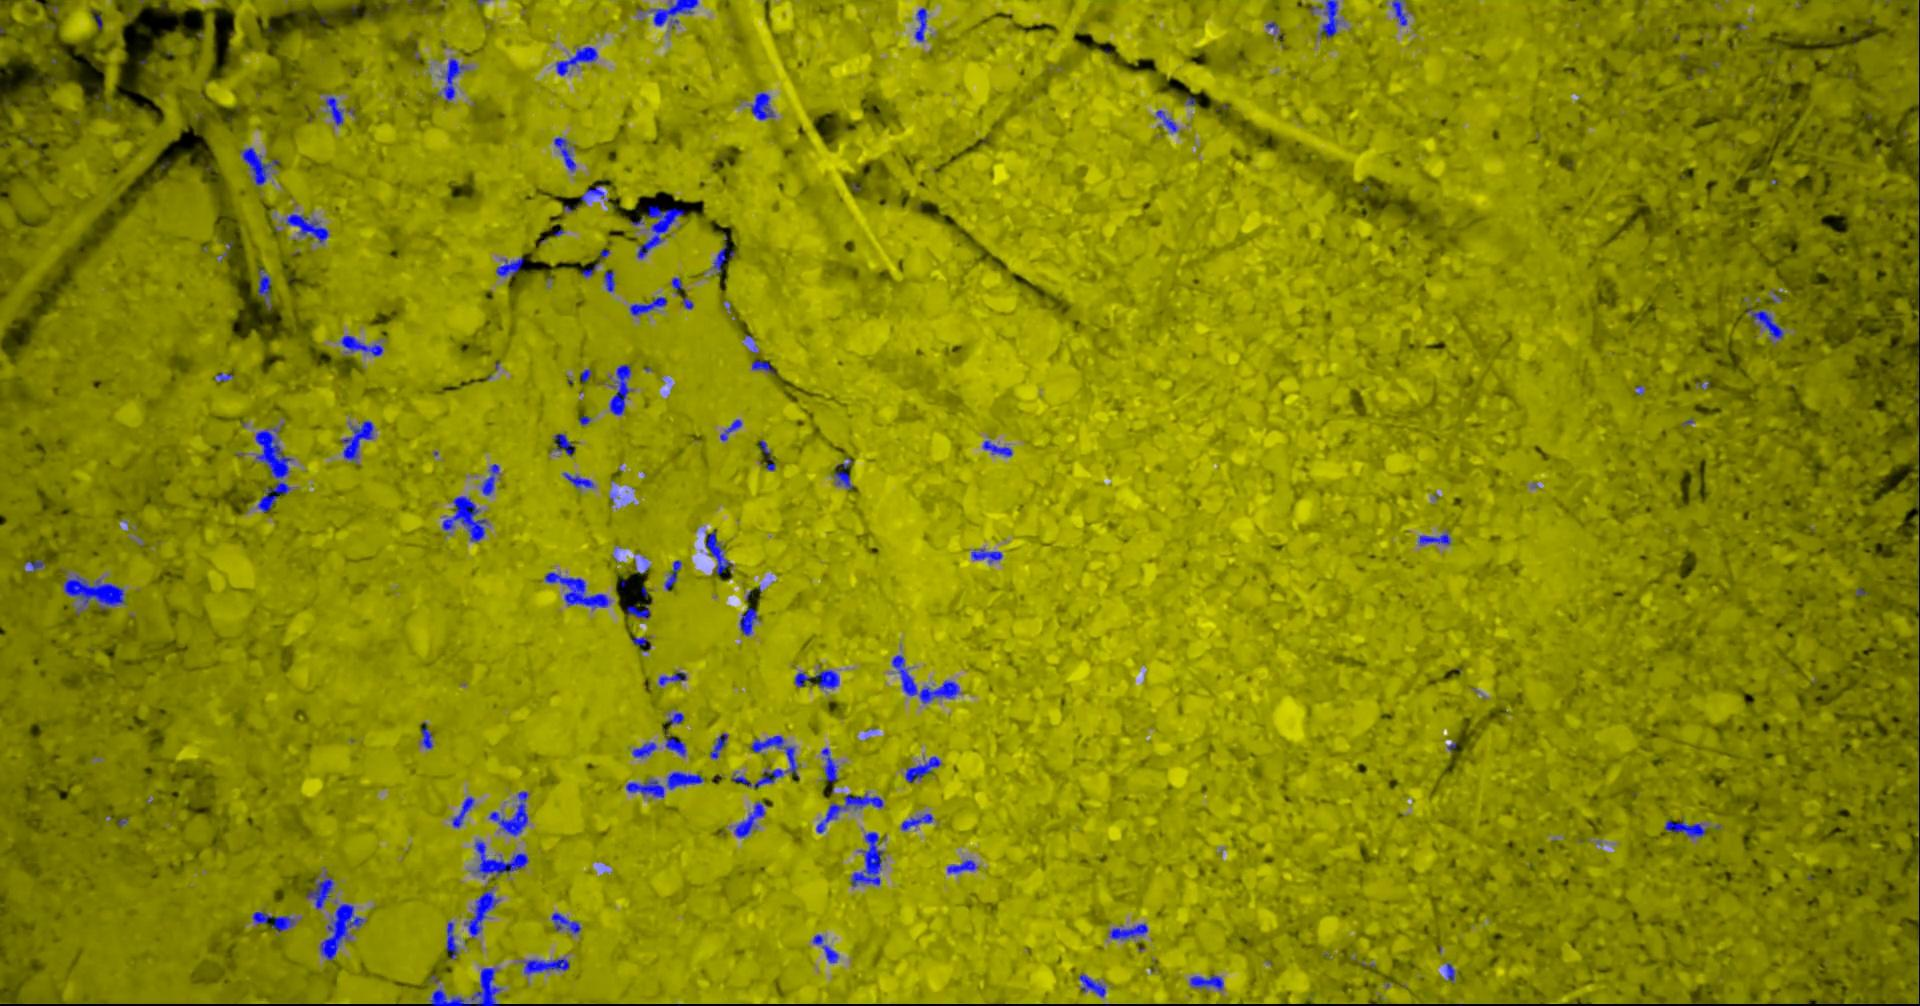ant: (731, 735, 797, 788), (891, 654, 957, 702), (429, 967, 502, 1005), (817, 793, 883, 832), (319, 903, 363, 960), (637, 205, 684, 258), (543, 572, 610, 608), (441, 495, 488, 541), (474, 840, 528, 876), (625, 771, 703, 796), (850, 831, 883, 887), (463, 889, 499, 937), (489, 791, 527, 835), (240, 147, 279, 185), (342, 420, 373, 461), (649, 0, 697, 27), (284, 213, 328, 243), (555, 46, 597, 75), (439, 58, 467, 100), (610, 365, 632, 415), (705, 531, 731, 574), (733, 801, 764, 837), (1746, 309, 1783, 338), (904, 756, 940, 782), (251, 911, 295, 932), (1319, 0, 1343, 37), (305, 876, 333, 908), (340, 335, 382, 356), (712, 234, 734, 273), (552, 136, 575, 171), (523, 956, 569, 974), (1663, 819, 1705, 837), (811, 934, 838, 962), (749, 91, 775, 119), (629, 296, 665, 315), (451, 796, 472, 827), (551, 912, 580, 934), (1109, 923, 1147, 940), (833, 459, 853, 489), (1078, 973, 1105, 996), (257, 267, 270, 310), (822, 747, 838, 782), (495, 257, 523, 276), (739, 607, 758, 635), (481, 464, 498, 495), (900, 813, 932, 829), (1189, 974, 1223, 989), (813, 669, 839, 688), (709, 733, 728, 760), (982, 439, 1012, 456), (324, 97, 342, 124), (552, 433, 574, 456), (444, 921, 457, 959), (664, 560, 681, 589), (1156, 109, 1177, 131), (719, 419, 742, 439), (759, 439, 775, 470), (579, 184, 603, 202), (563, 473, 593, 486), (970, 547, 1001, 561), (631, 742, 657, 758), (947, 859, 977, 873), (658, 671, 686, 685), (1390, 0, 1406, 25), (665, 735, 684, 756), (914, 8, 926, 41), (1417, 533, 1449, 545), (750, 359, 775, 373), (625, 605, 649, 619), (582, 262, 599, 277), (794, 672, 811, 687), (422, 721, 432, 748), (603, 269, 615, 291), (24, 559, 43, 572), (670, 277, 682, 293), (667, 713, 683, 724), (1445, 963, 1454, 981), (631, 636, 648, 645), (580, 368, 590, 382), (215, 373, 232, 381), (1917, 445, 1919, 506)
